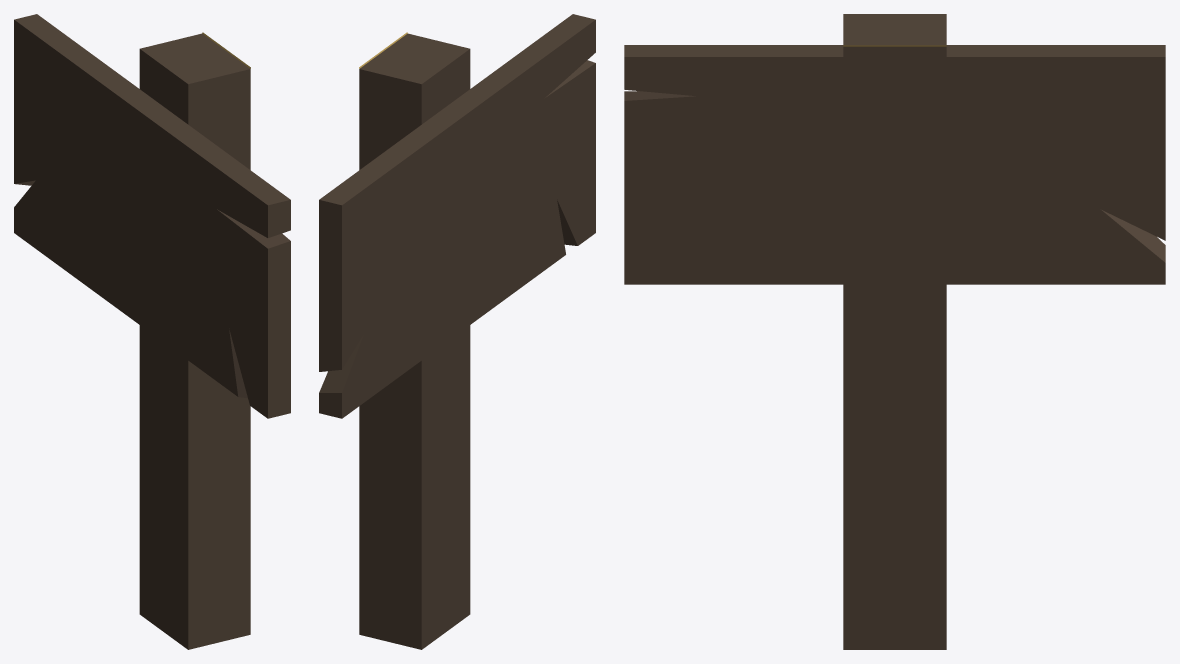
File: sign_02.fbx
3 views of the same model, side by side, from view 1: azimuth 30°, elevation 25°; view 2: azimuth 150°, elevation 25°; view 3: azimuth 270°, elevation 25° (orthographic). The views are drawn at different scales.
Visible parts, largest first — view 1: sign_02; view 2: sign_02; view 3: sign_02.
Boxes of the visible parts, box(x1,y1,x2,y2) form: sign_02: box(14, 14, 290, 649); sign_02: box(319, 14, 595, 649); sign_02: box(624, 14, 1165, 649).
Size of the model in its own units: 0.208 by 1.06 by 1.31.
